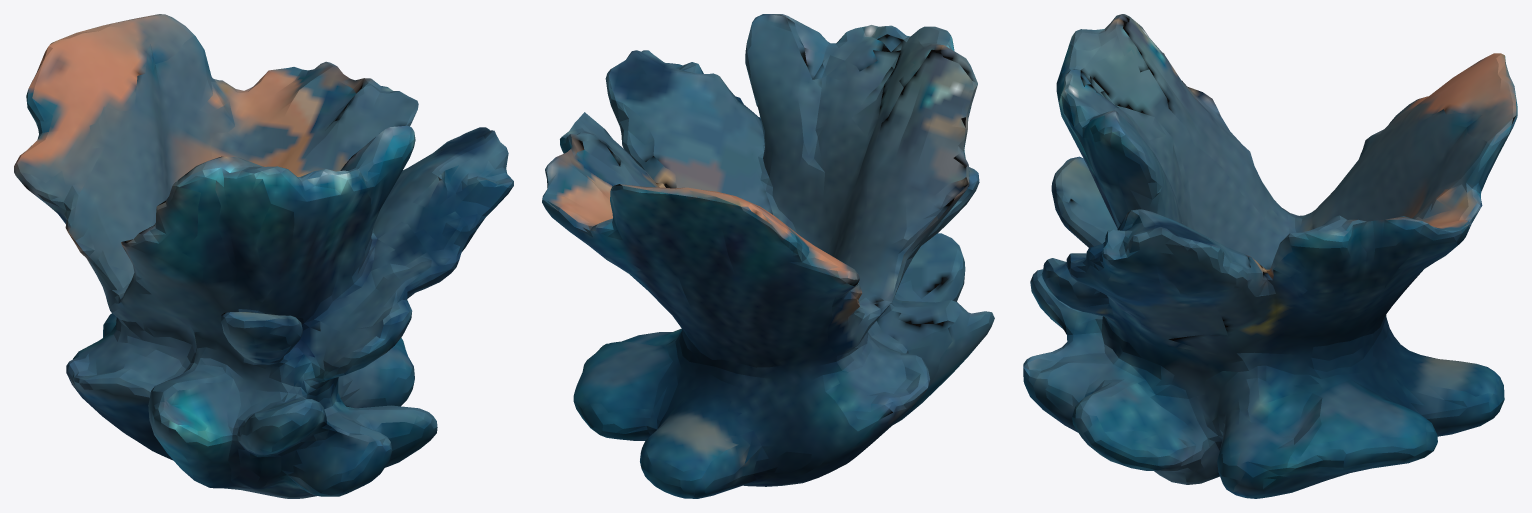
The model's file is Plant6.glb.
3 renders of one model, left to right at view 1: azimuth 30°, elevation 25°; view 2: azimuth 150°, elevation 25°; view 3: azimuth 270°, elevation 25°, orthographic. The views are drawn at different scales.
Parts seen in each view (by area): view 1: model.010_LOD0; view 2: model.010_LOD0; view 3: model.010_LOD0.
Boxes of the visible parts, <box> form: model.010_LOD0: <box>14,14,513,498</box>; model.010_LOD0: <box>542,14,994,498</box>; model.010_LOD0: <box>1023,14,1517,498</box>.
Size of what is drawn, in the model's own units: 0.3577 by 0.3616 by 0.4064.
Materials: 1 (1 with a texture image).
